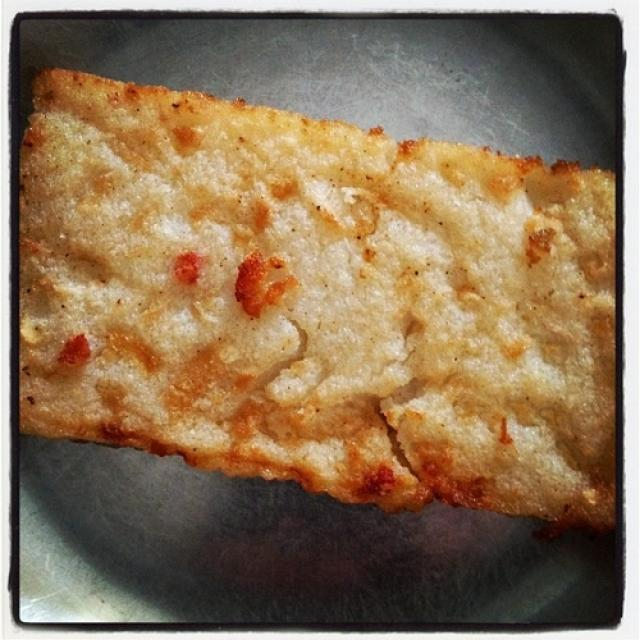蛋糕甜品: (26, 48, 630, 592)
